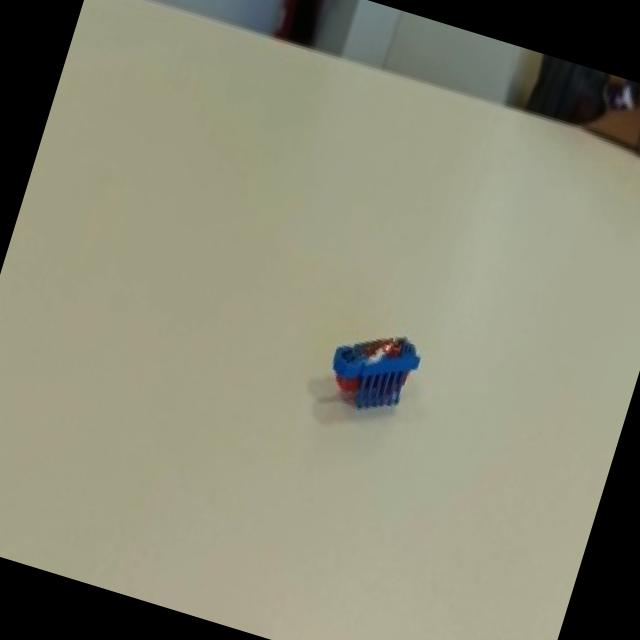1_NanoBug_Azul: (304, 284, 459, 450)
